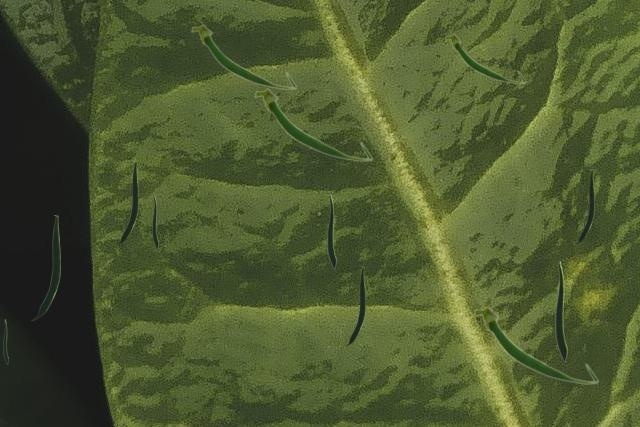french_bean: (472, 306, 598, 384), (253, 88, 372, 161), (190, 23, 296, 89), (444, 33, 525, 83), (32, 215, 59, 319), (116, 161, 137, 244), (345, 266, 364, 345), (575, 169, 593, 243), (555, 261, 566, 361), (327, 194, 335, 268), (152, 195, 157, 248), (3, 319, 7, 363)
